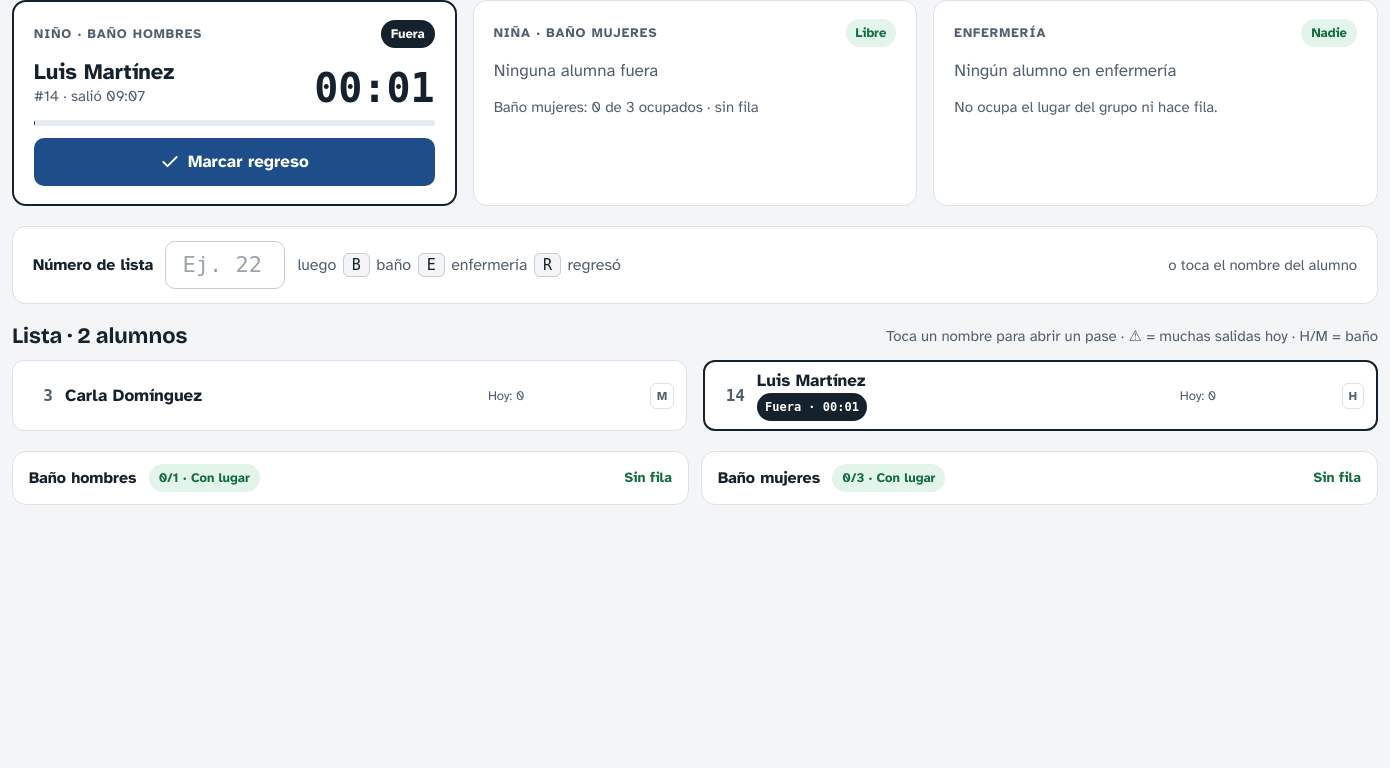
Test: captura rápida › avisa si el número no existe o el alumno no está fuera
In the field labelled "Número de lista": (226, 265) left=166, top=241, right=286, bottom=289, type "40"
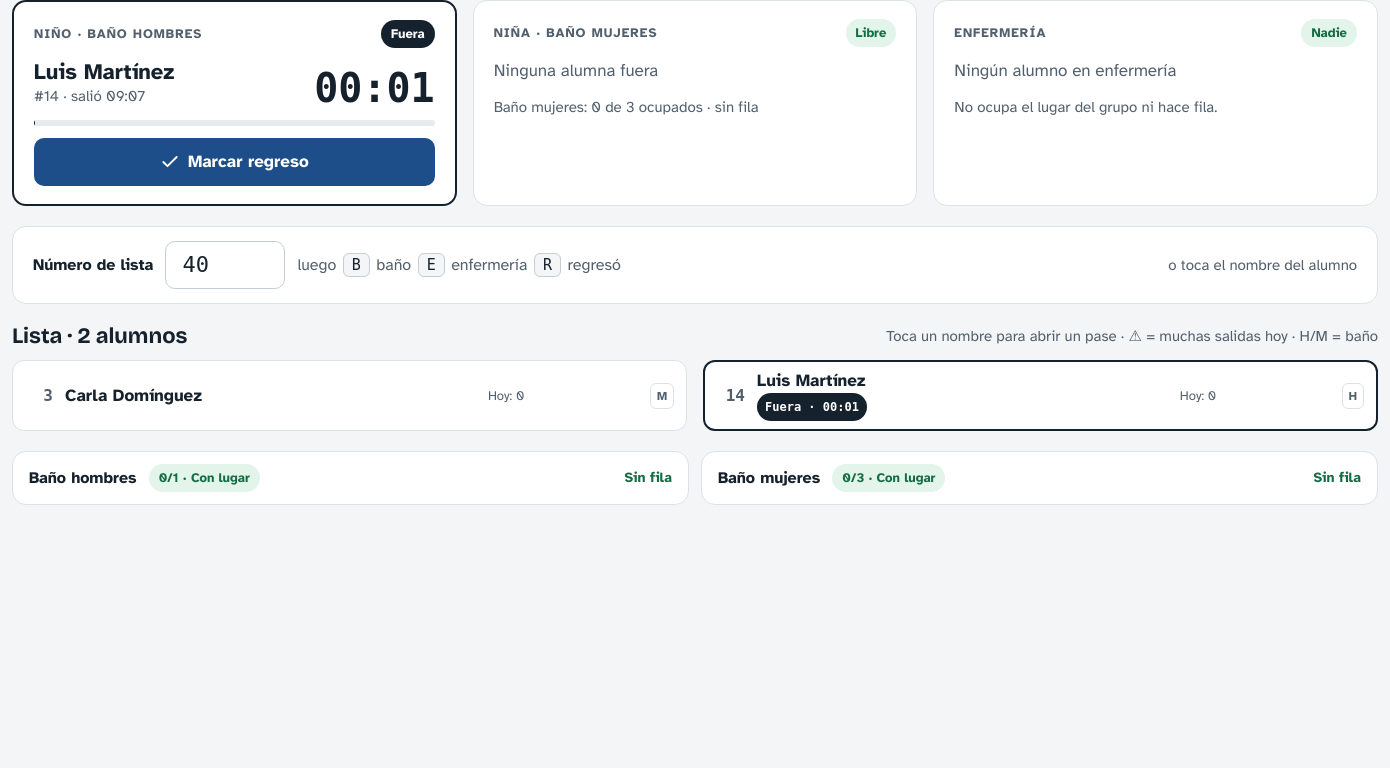
Press b in the field labelled "Número de lista", box left=166, top=241, right=286, bottom=289
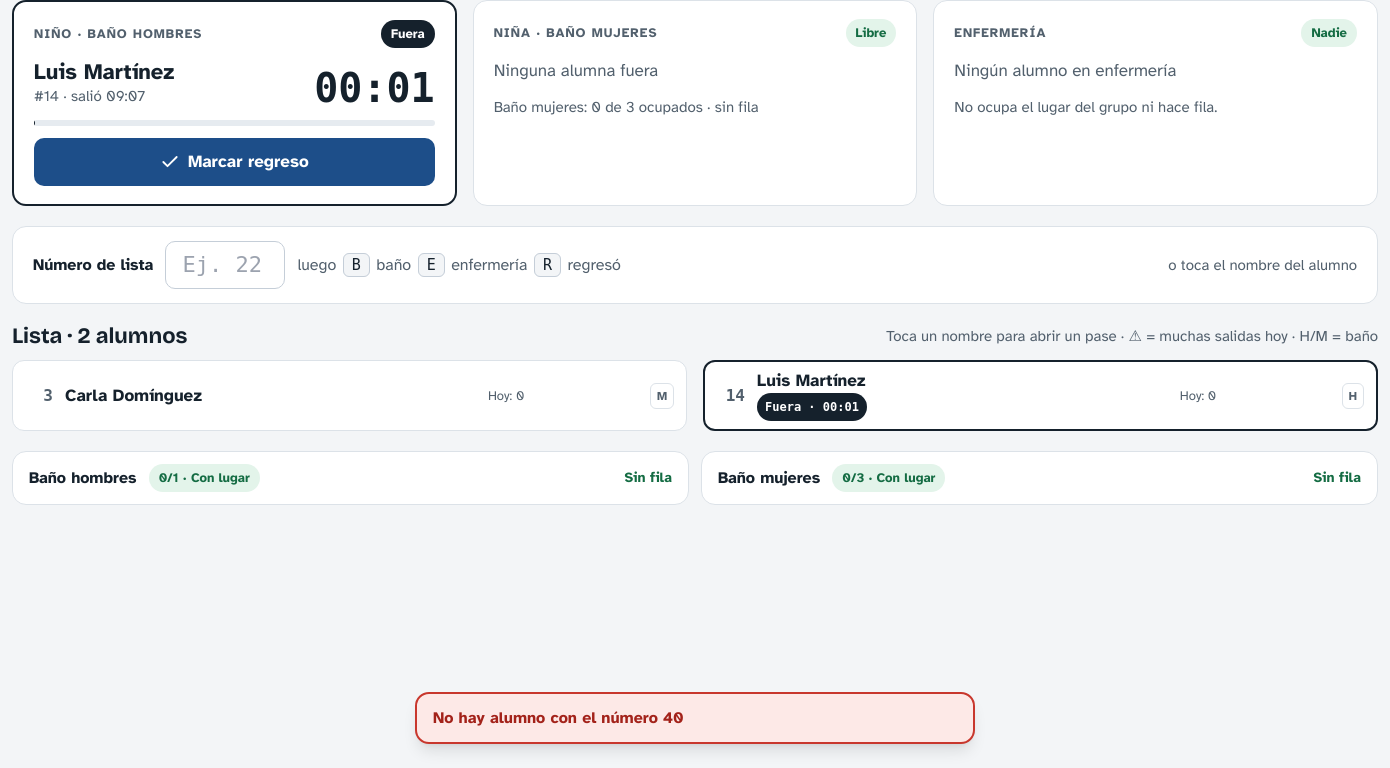
Now the message reads "No hay alumno con el número 40", box left=433, top=708, right=683, bottom=728
In the field labelled "Número de lista": (226, 265) left=166, top=241, right=286, bottom=289, type "3"
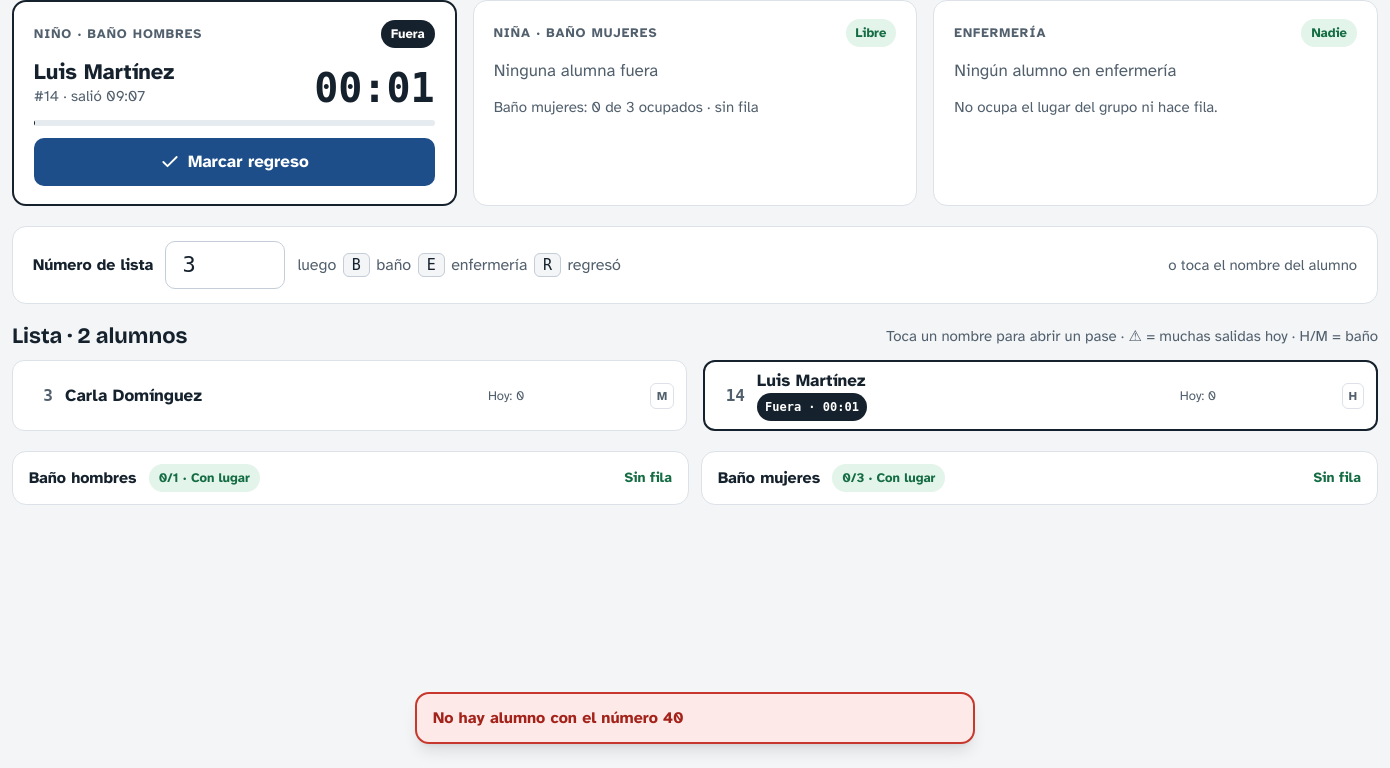
Press r in the field labelled "Número de lista", box left=166, top=241, right=286, bottom=289
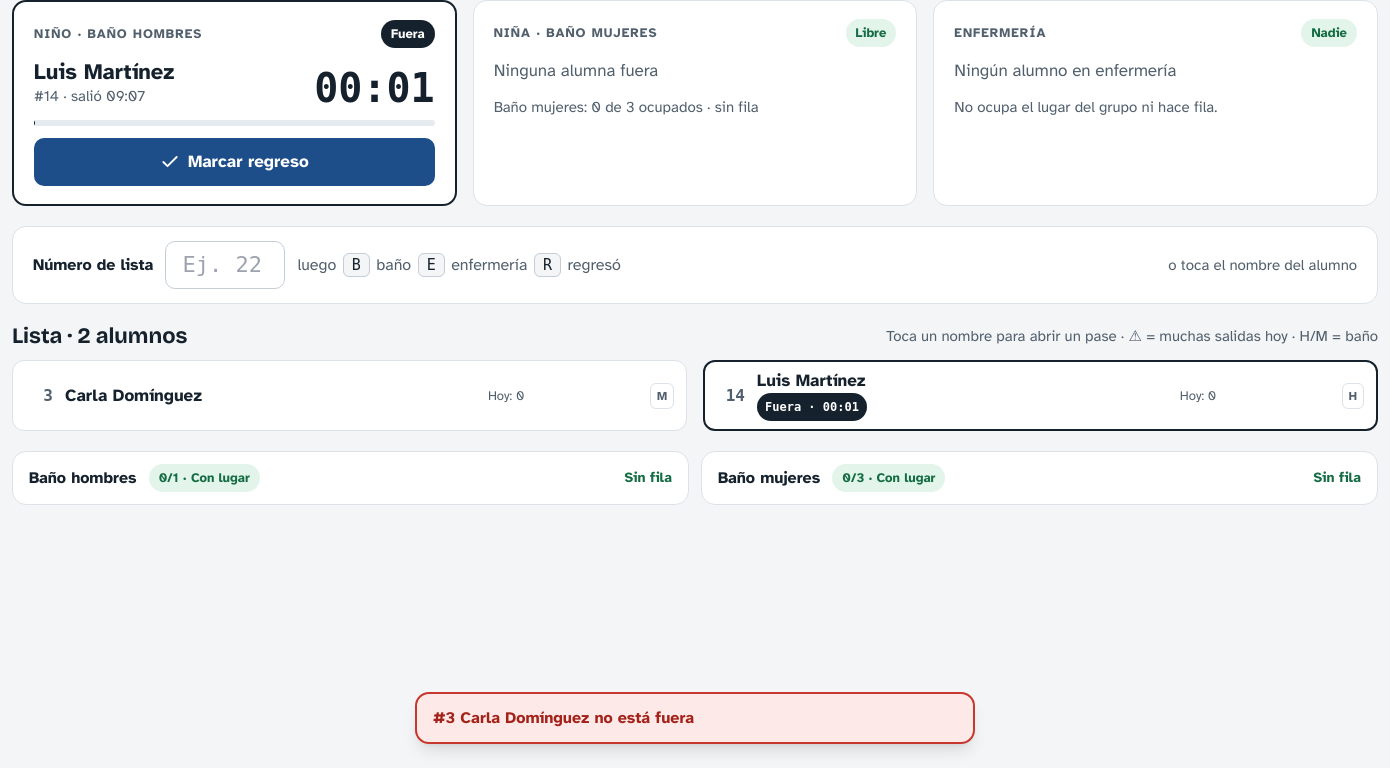
Now the message reads "#3 Carla Domínguez no está fuera", box left=433, top=708, right=694, bottom=728
